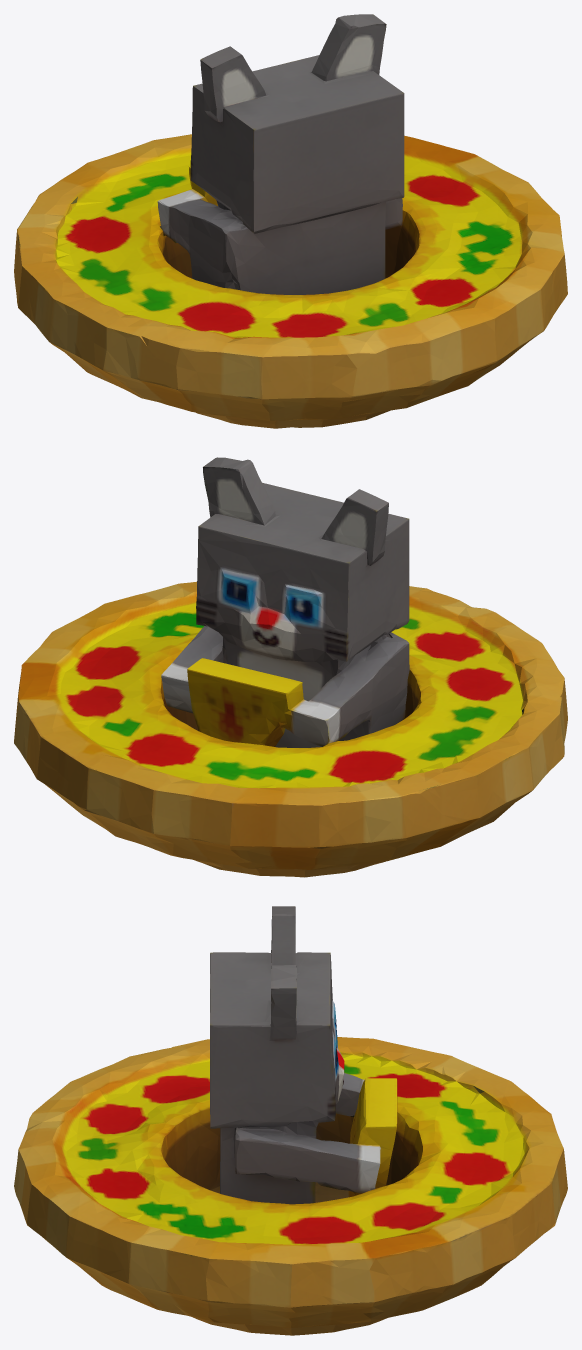
File: GattoPizzanave.glb
The picture shows the model from 3 angles, top to bottom: view 1: azimuth 30°, elevation 25°; view 2: azimuth 150°, elevation 25°; view 3: azimuth 270°, elevation 25°; orthographic projection.
Parts seen in each view (by area): view 1: geometry_0; view 2: geometry_0; view 3: geometry_0.
Part boxes in pixels (<box>): geometry_0: <box>14,14,567,428</box>; geometry_0: <box>14,457,567,877</box>; geometry_0: <box>14,906,567,1335</box>.
Bounding box in the file's own units: 1.49 × 1 × 1.49.
Materials: 1 (1 with a texture image).
